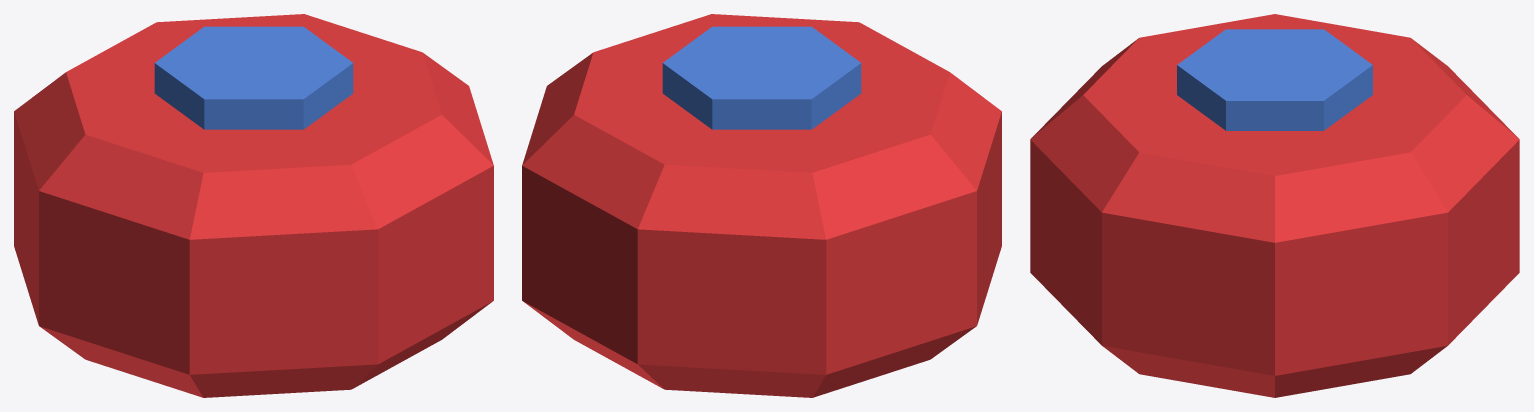
The model's file is body_1.glb.
3 views of the same model, side by side, from view 1: azimuth 30°, elevation 25°; view 2: azimuth 150°, elevation 25°; view 3: azimuth 270°, elevation 25° (orthographic).
Visible parts, largest first — view 1: Cylinder.001; view 2: Cylinder.001; view 3: Cylinder.001.
Boxes of the visible parts, x1,y1,x2,y2 form: Cylinder.001: [14, 14, 493, 397]; Cylinder.001: [522, 14, 1001, 397]; Cylinder.001: [1030, 14, 1519, 397].
Size of the model in its own units: 5 by 2.84 by 5.
